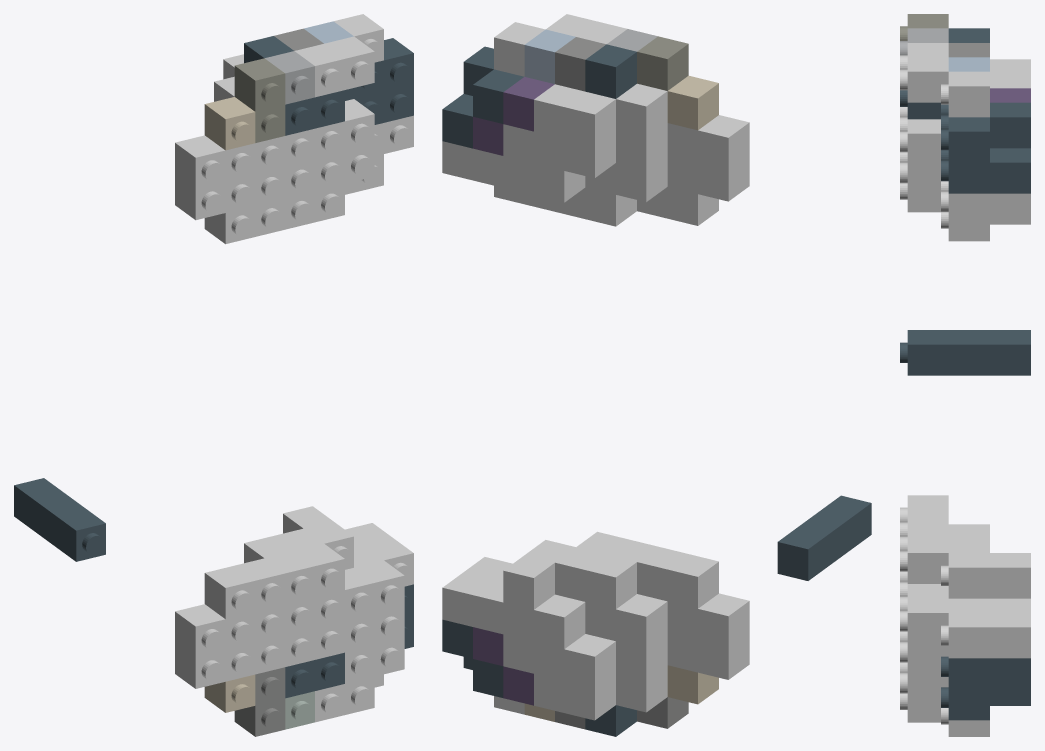
The model's file is full.glb.
The picture shows the model from 3 angles, left to right: view 1: azimuth 30°, elevation 25°; view 2: azimuth 150°, elevation 25°; view 3: azimuth 270°, elevation 25°; orthographic projection. The views are drawn at different scales.
Parts seen in each view (by area): view 1: world; view 2: world; view 3: world.
Boxes of the visible parts, x1,y1,x2,y2 form: world: (14, 14, 413, 736); world: (442, 14, 871, 736); world: (900, 14, 1030, 736).
Size of the model in its own units: 96 by 168 by 30.6.
